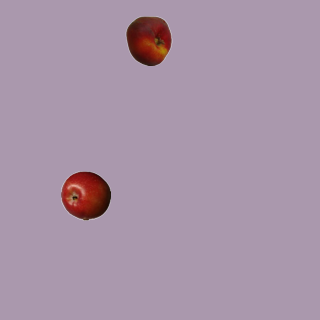Apple Braeburn: (60, 170, 110, 220)
Nectarine Flat: (123, 15, 173, 65)
